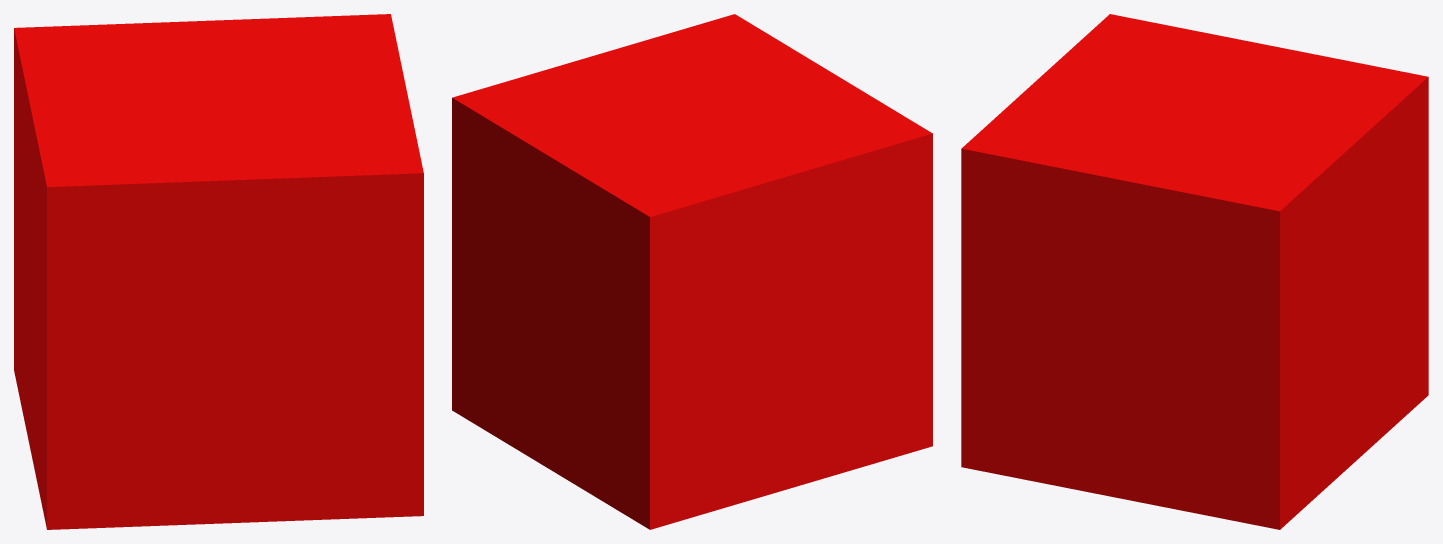
The model's file is RedCube2-0622.FBX.
3 renders of one model, left to right at view 1: azimuth 30°, elevation 25°; view 2: azimuth 150°, elevation 25°; view 3: azimuth 270°, elevation 25°, orthographic. The views are drawn at different scales.
Parts seen in each view (by area): view 1: RedCube2; view 2: RedCube2; view 3: RedCube2.
Boxes of the visible parts, bbox=[...] form: RedCube2: bbox=[14, 14, 423, 529]; RedCube2: bbox=[452, 14, 932, 529]; RedCube2: bbox=[961, 14, 1428, 529].
Size of the model in its own units: 13.29 by 10 by 13.29.
